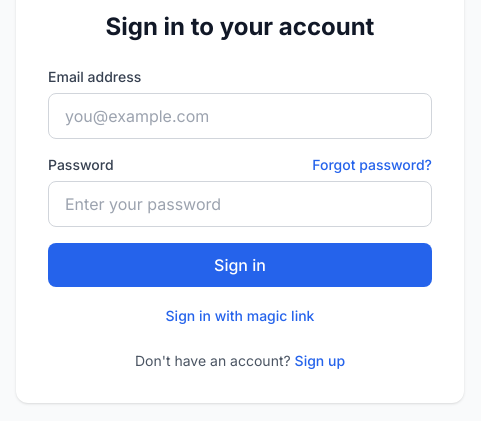
Test: LoginForm › switches back to password mode from magic link
Click the button "Sign in with magic link": [240, 316] box [166,306,314,326]
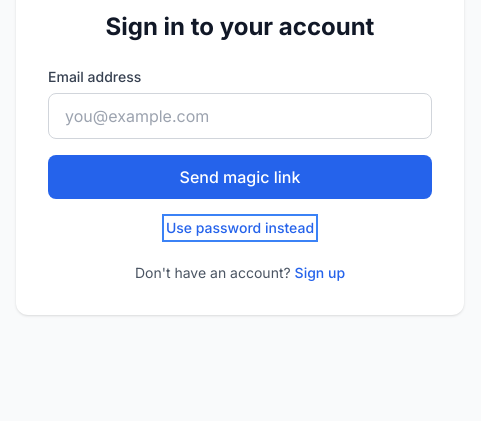
Click the button "Use password instead": [240, 228] box [166,218,314,238]
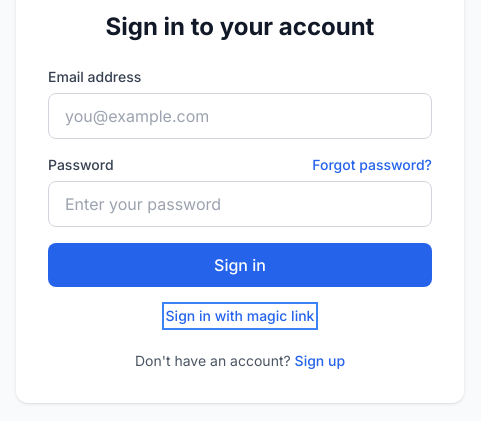
expect the password field labelled "Password" is shown: met, box [48,181,432,227]
